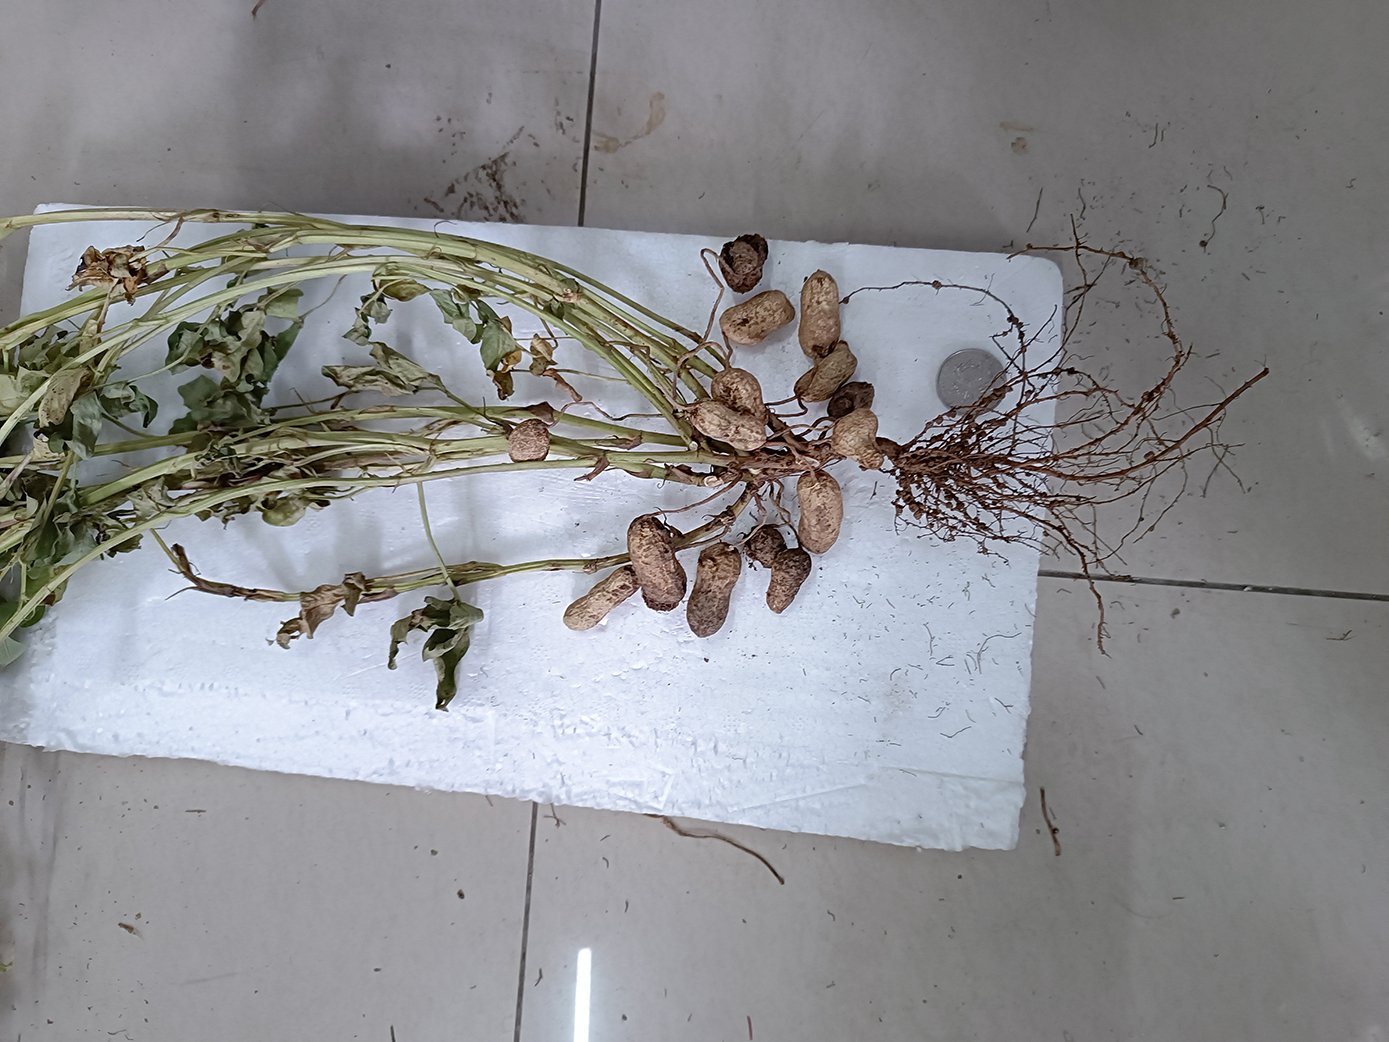h: (564, 566, 645, 632), (719, 287, 794, 344), (691, 398, 766, 453), (798, 471, 842, 558), (721, 291, 794, 343), (798, 268, 841, 355), (796, 344, 858, 403), (831, 409, 881, 471), (711, 366, 763, 420), (508, 419, 549, 463)
l: (627, 514, 688, 609), (687, 542, 742, 638), (768, 547, 810, 614), (719, 233, 768, 289), (830, 383, 872, 415), (750, 526, 780, 563)
